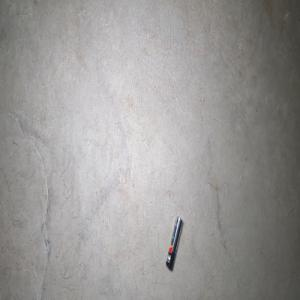Battery: (165, 215, 183, 270)
